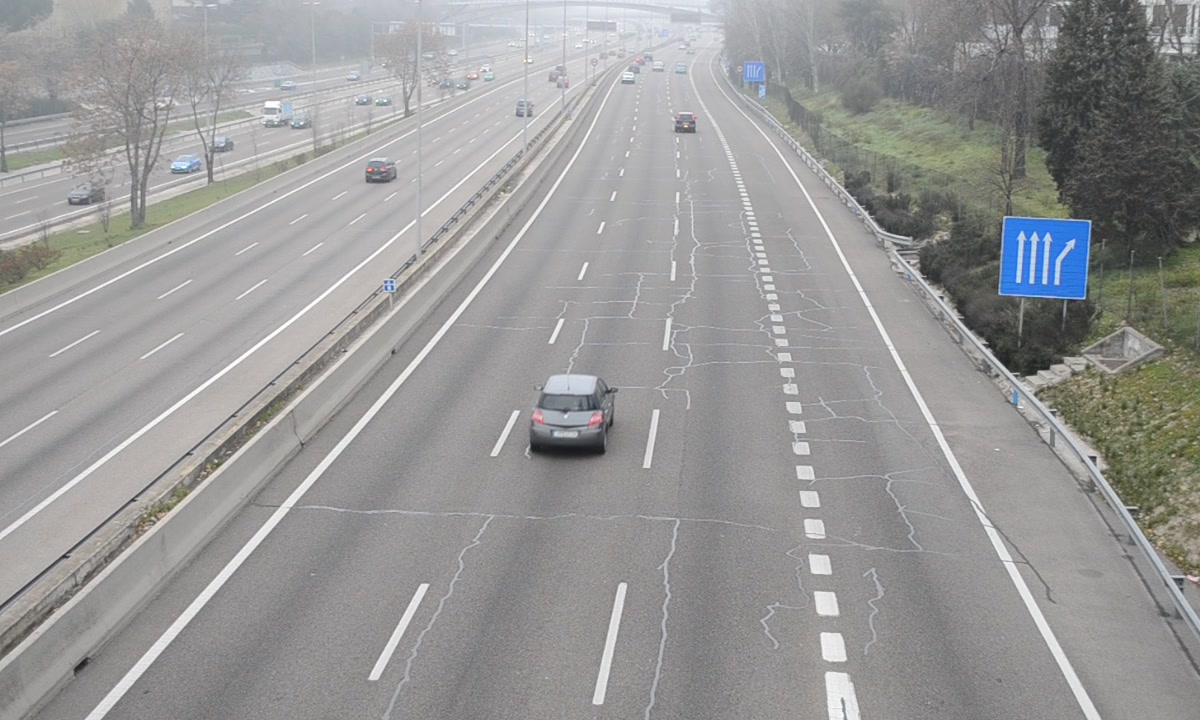car: (531, 374, 612, 449), (675, 111, 697, 134)
